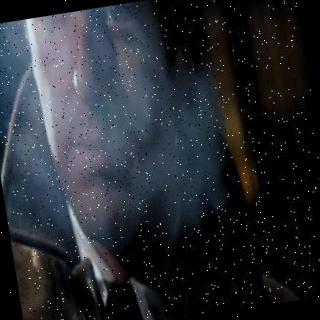smoke: (0, 0, 237, 253)
